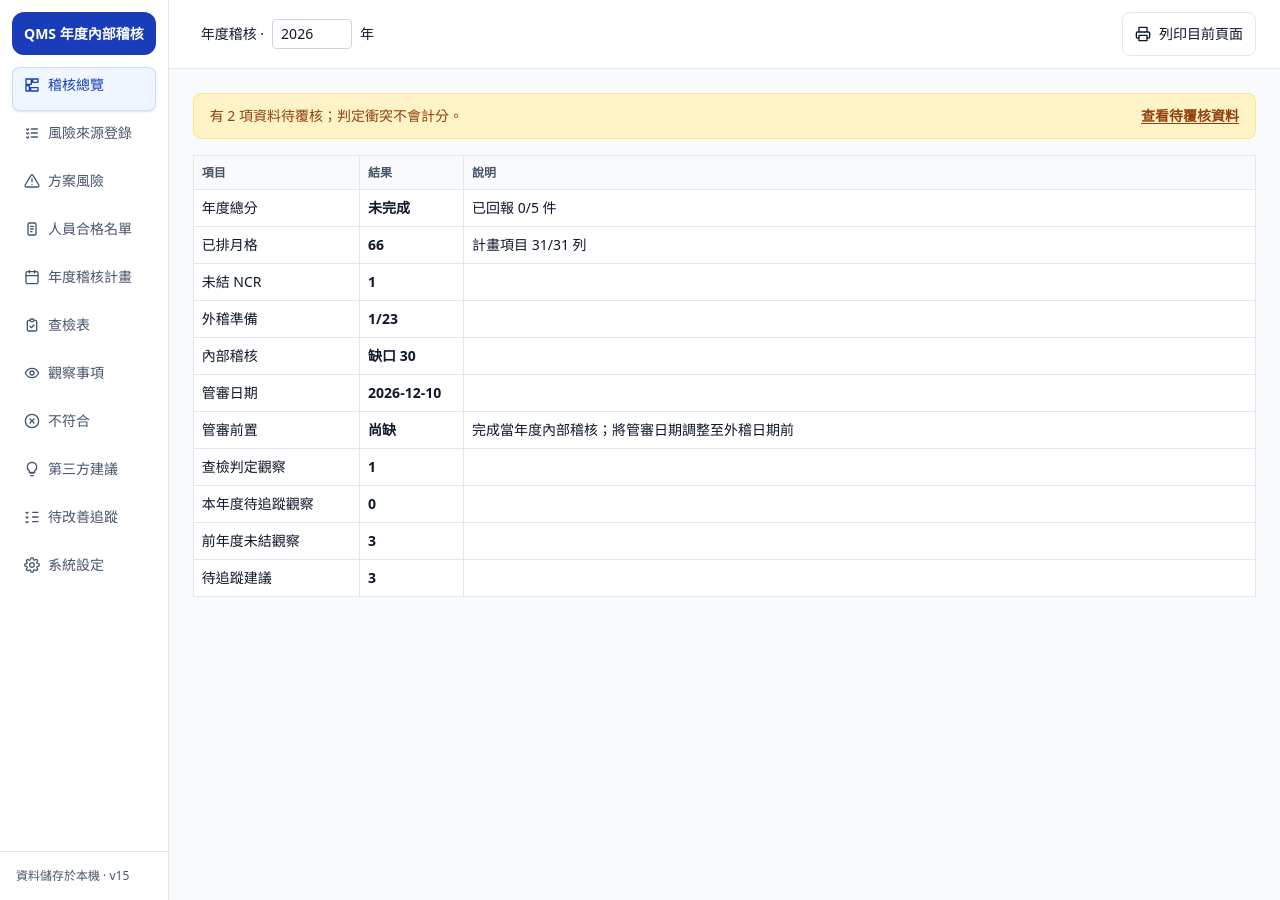
Test: Suggestions 一覽 › 一覽唯讀顯示進度與狀態，編輯收在明細
The width and height of the screenshot is (1280, 900).
Click the button "第三方建議" at [84, 473], box x1=12 y1=451 x2=156 y2=495
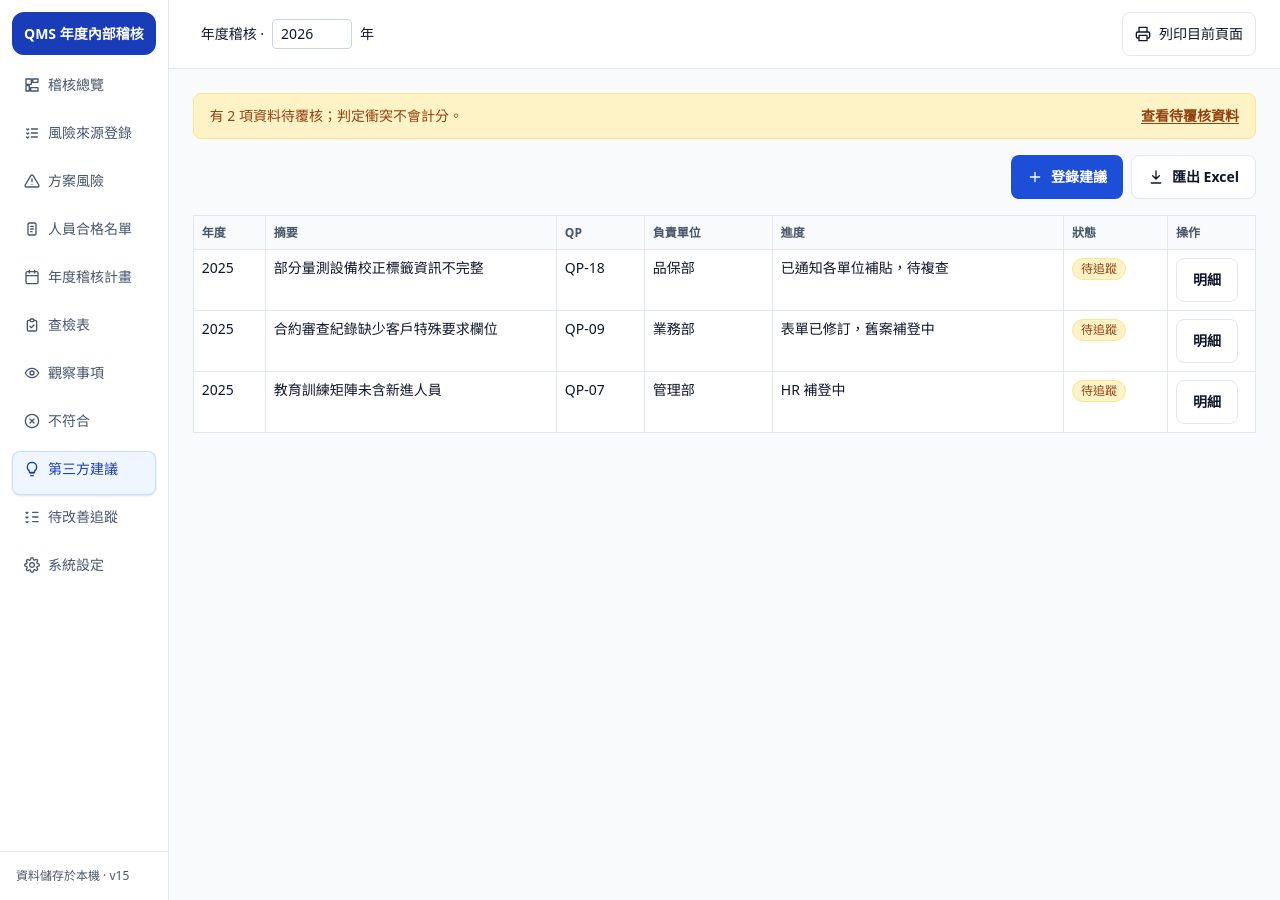
Click the button with aria-label "建議明細" at [1207, 280], box x1=1176 y1=258 x2=1238 y2=302
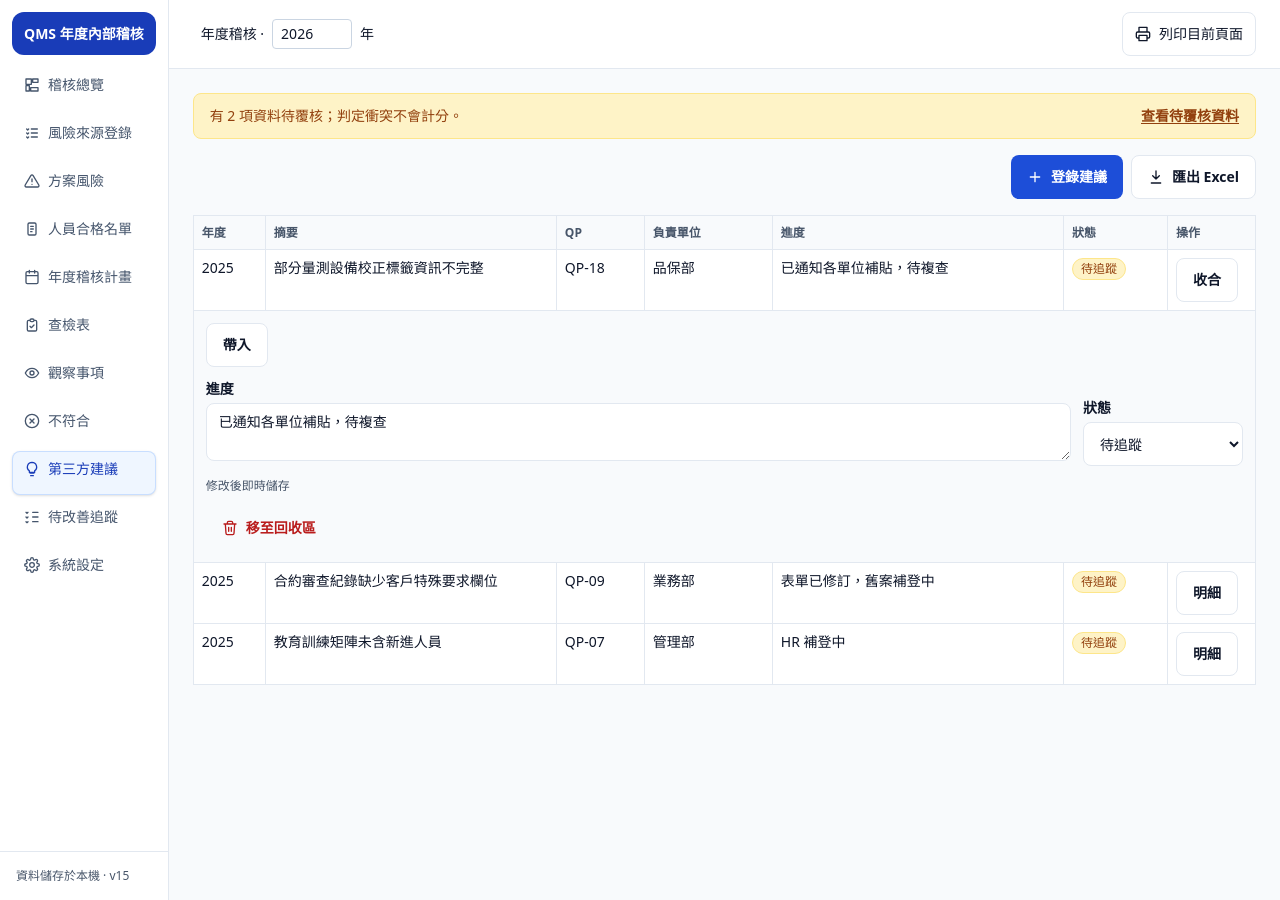
Expected: the button with aria-label "建議明細" is expanded, x1=1176 y1=258 x2=1238 y2=302
Expected: the button "帶入" is shown, x1=206 y1=323 x2=268 y2=367
Replace the text in the text box named "建議進度" with "已完成複查" at [638, 432], box x1=206 y1=403 x2=1071 y2=461
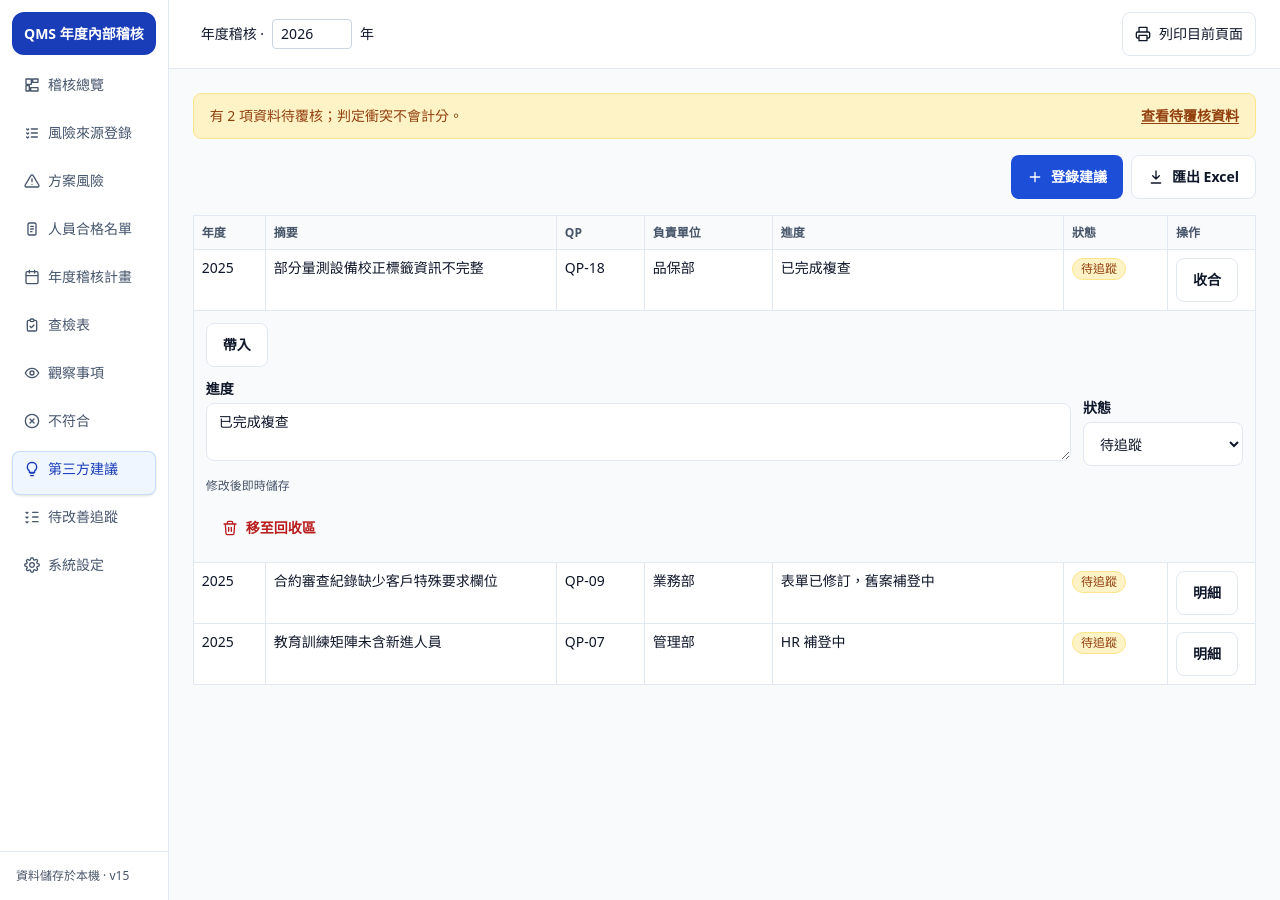
Expected: the dropdown named "建議狀態" is shown, x1=1083 y1=422 x2=1243 y2=466
Expected: the text "已完成複查" is shown, x1=772 y1=250 x2=1064 y2=311
